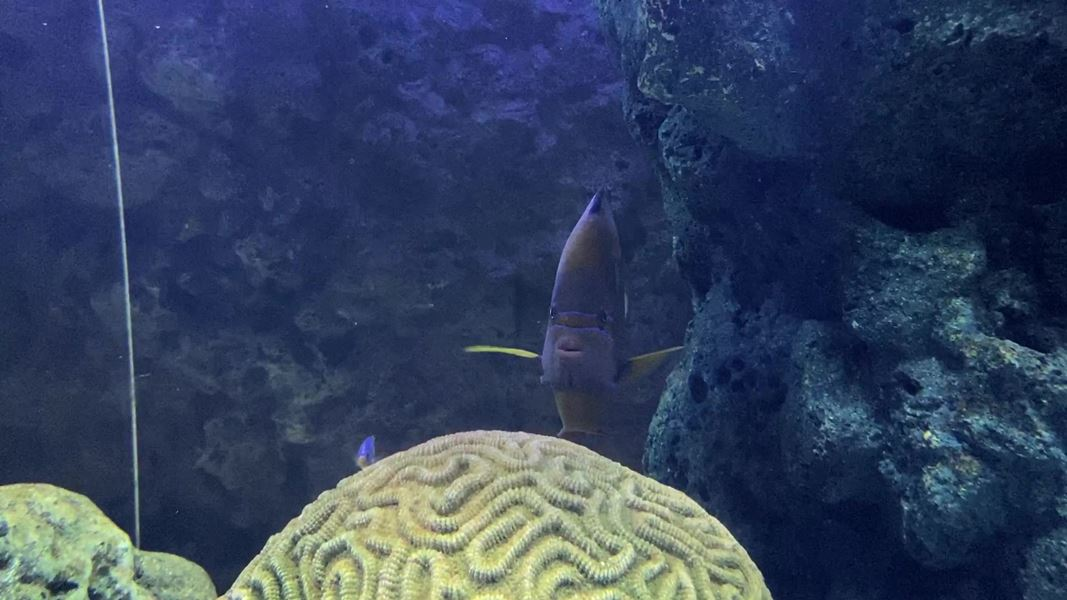Blue ring angelfish: (441, 176, 708, 465)
